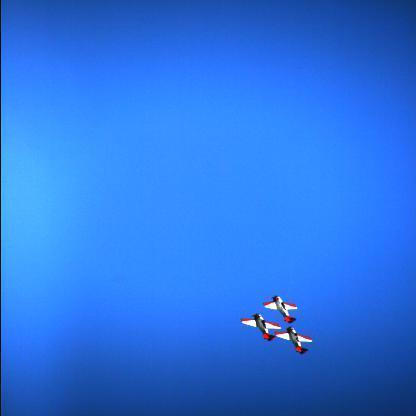aircraft: (257, 290, 305, 324), (277, 324, 321, 358), (239, 312, 281, 344)
